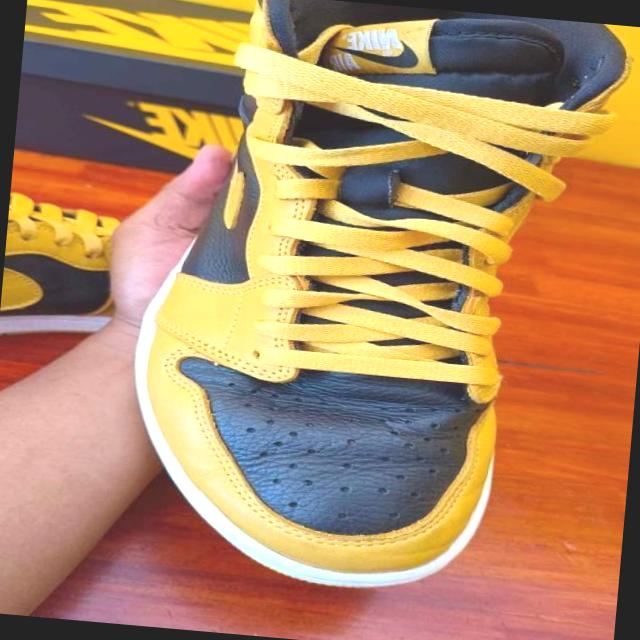nike_original_jordan: (108, 0, 634, 612)
